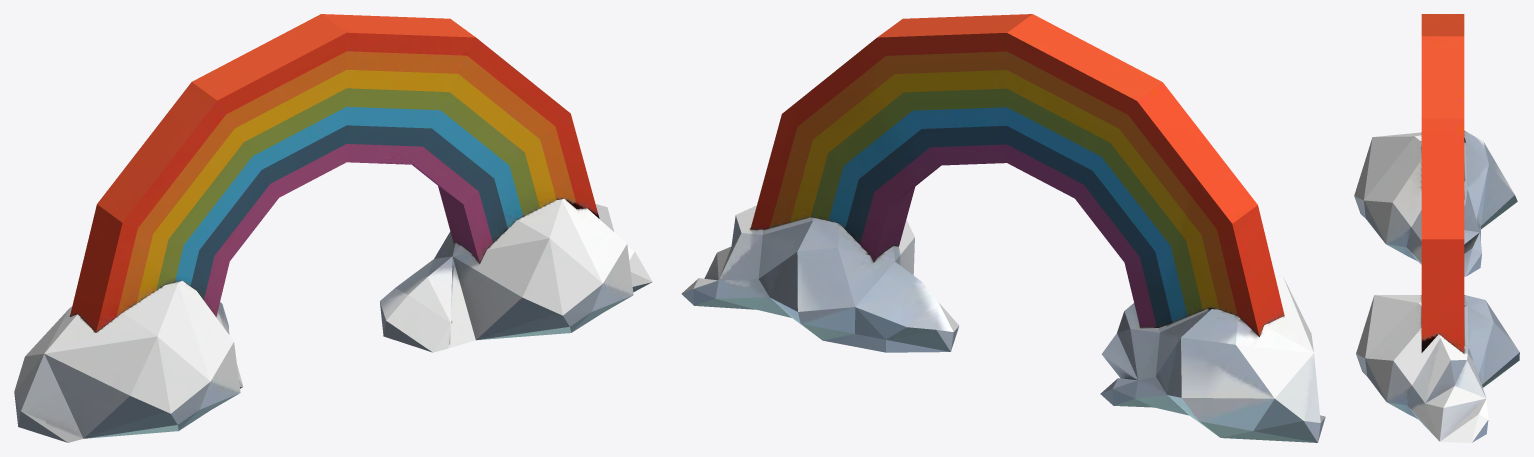
File: cNmJWvV7Piz.glb
3 renders of one model, left to right at view 1: azimuth 30°, elevation 25°; view 2: azimuth 150°, elevation 25°; view 3: azimuth 270°, elevation 25°, orthographic. The views are drawn at different scales.
Visible parts, largest first — view 1: rainbow; view 2: rainbow; view 3: rainbow.
Boxes of the visible parts, x1=… form: rainbow: x1=14, y1=14, x2=652, y2=442; rainbow: x1=681, y1=14, x2=1325, y2=442; rainbow: x1=1354, y1=14, x2=1519, y2=442.
Bounding box in the file's own units: 1.95 × 1 × 0.5393.
Materials: 1 (1 with a texture image).
